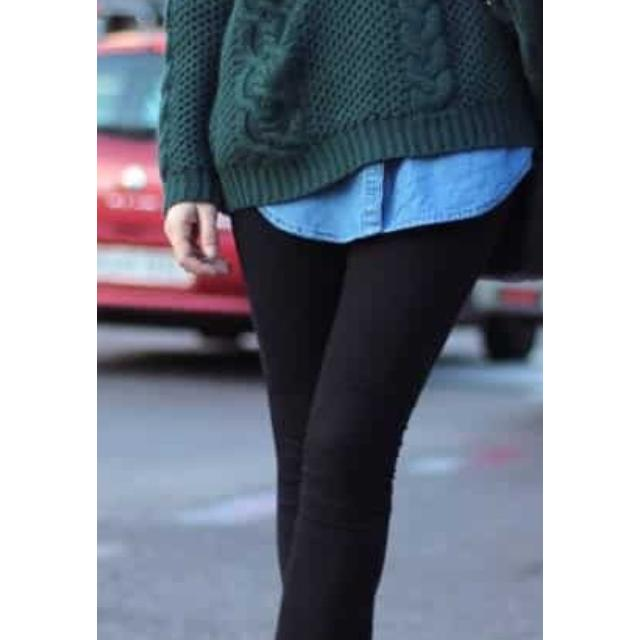linen: (189, 0, 543, 160)
